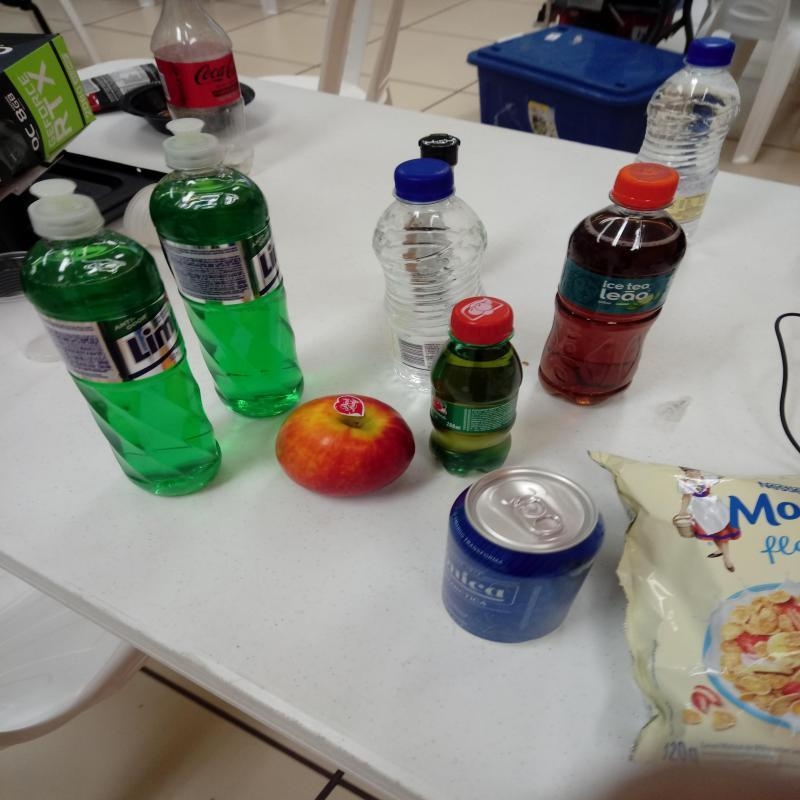Apple: (273, 393, 416, 498)
Cleaner: (21, 179, 228, 504), (150, 117, 304, 419)
CornFlakes: (577, 449, 800, 782)
EnglishSauce: (424, 131, 464, 160)
Guarana: (429, 298, 522, 480)
IceTea: (537, 165, 690, 404)
Tonic: (443, 467, 602, 643)
Water: (374, 154, 487, 382), (633, 36, 741, 230)
